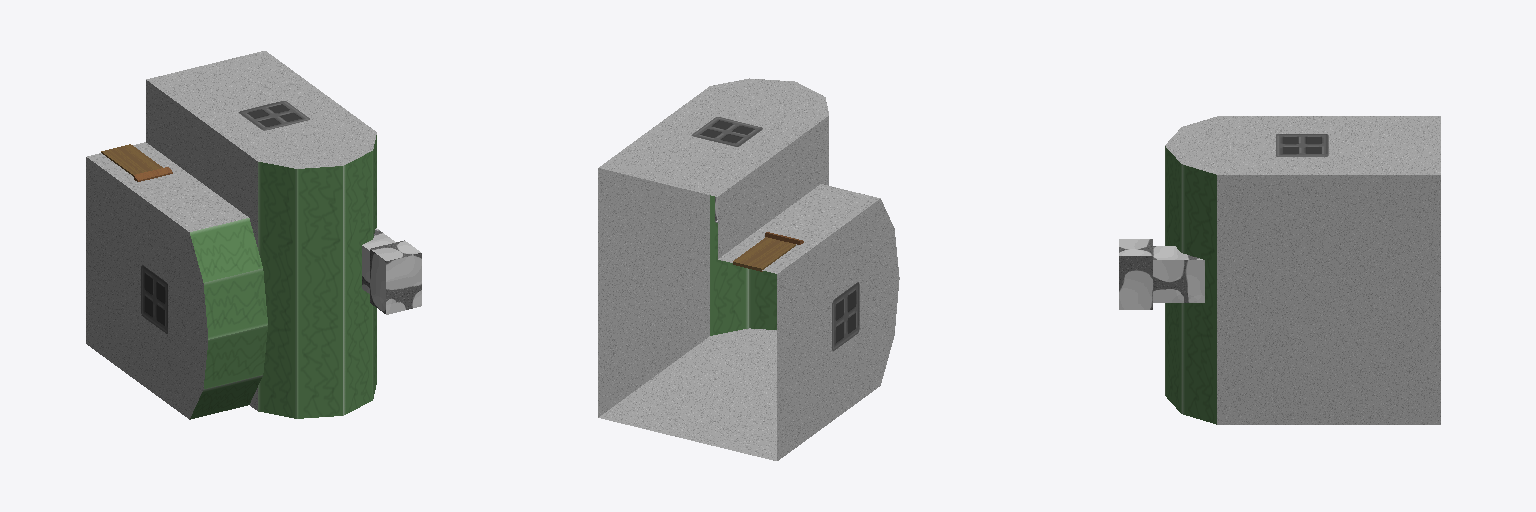
3 views of the same model, side by side, from view 1: azimuth 30°, elevation 25°; view 2: azimuth 150°, elevation 25°; view 3: azimuth 270°, elevation 25° (orthographic).
Visible parts, largest first — view 1: House, Chimney, Doorframe; view 2: House, Doorframe; view 3: House, Chimney.
Boxes of the visible parts, x1,y1,x2,y2 form: House: [86, 51, 376, 419]; Chimney: [362, 228, 421, 314]; Doorframe: [101, 144, 172, 181]; House: [598, 78, 899, 460]; Doorframe: [733, 232, 803, 271]; House: [1165, 116, 1440, 424]; Chimney: [1119, 239, 1204, 309].
Bounding box in the file's own units: 6 × 8 × 9.31.
3 materials, 3 textured.